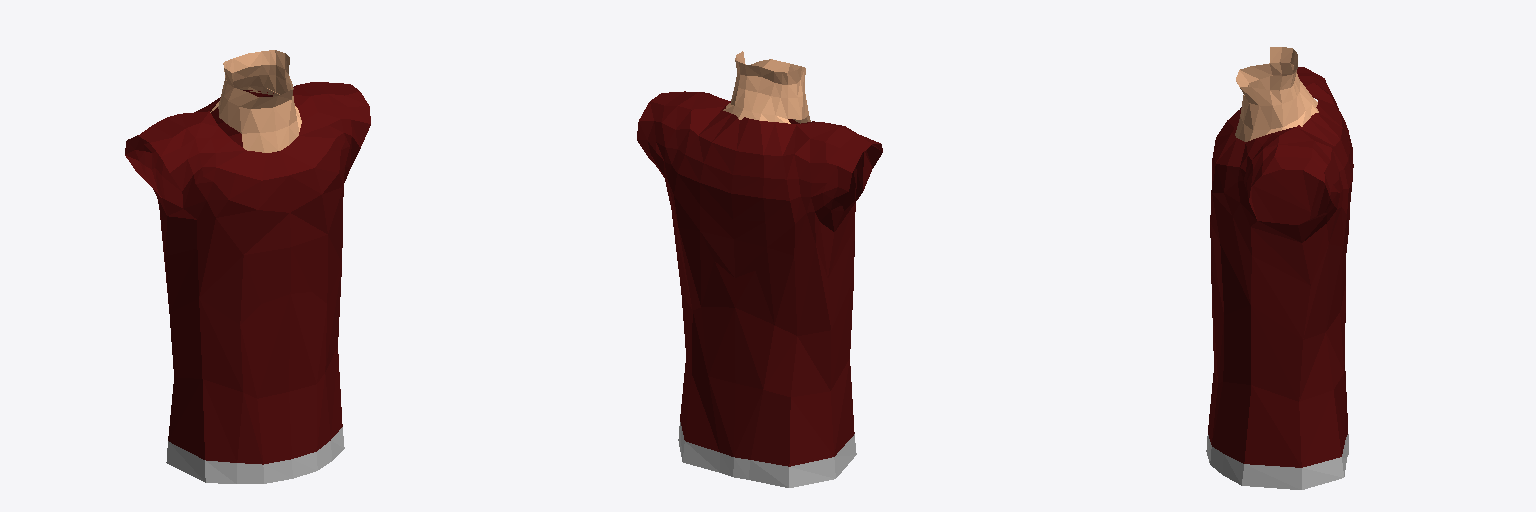
Rendered from pi_Porl_Body.obj.
3 renders of one model, left to right at view 1: azimuth 30°, elevation 25°; view 2: azimuth 150°, elevation 25°; view 3: azimuth 270°, elevation 25°, orthographic.
Parts seen in each view (by area): view 1: T-Shirt_Plane.023, Character_Mesh_Plane.001; view 2: T-Shirt_Plane.023, Character_Mesh_Plane.001; view 3: T-Shirt_Plane.023, Character_Mesh_Plane.001.
Boxes of the visible parts, x1,y1,x2,y2 form: T-Shirt_Plane.023: [125, 82, 370, 483]; Character_Mesh_Plane.001: [210, 50, 301, 152]; T-Shirt_Plane.023: [637, 91, 882, 487]; Character_Mesh_Plane.001: [723, 51, 810, 123]; T-Shirt_Plane.023: [1206, 67, 1353, 489]; Character_Mesh_Plane.001: [1235, 47, 1318, 141].
Bounding box in the file's own units: 1.21 × 2.12 × 0.723.